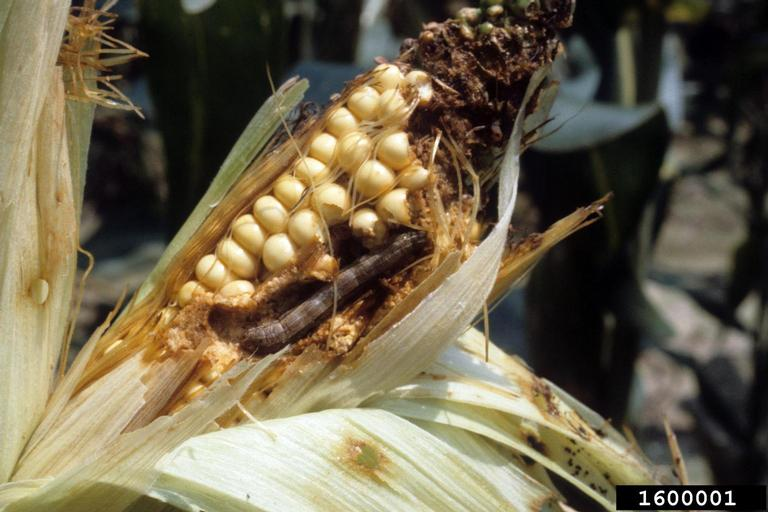Armyworm: (225, 222, 441, 358)
